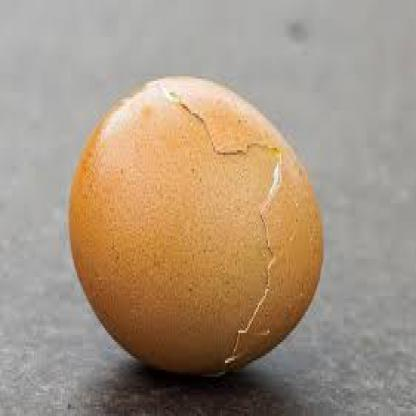egg: (72, 64, 323, 374)
